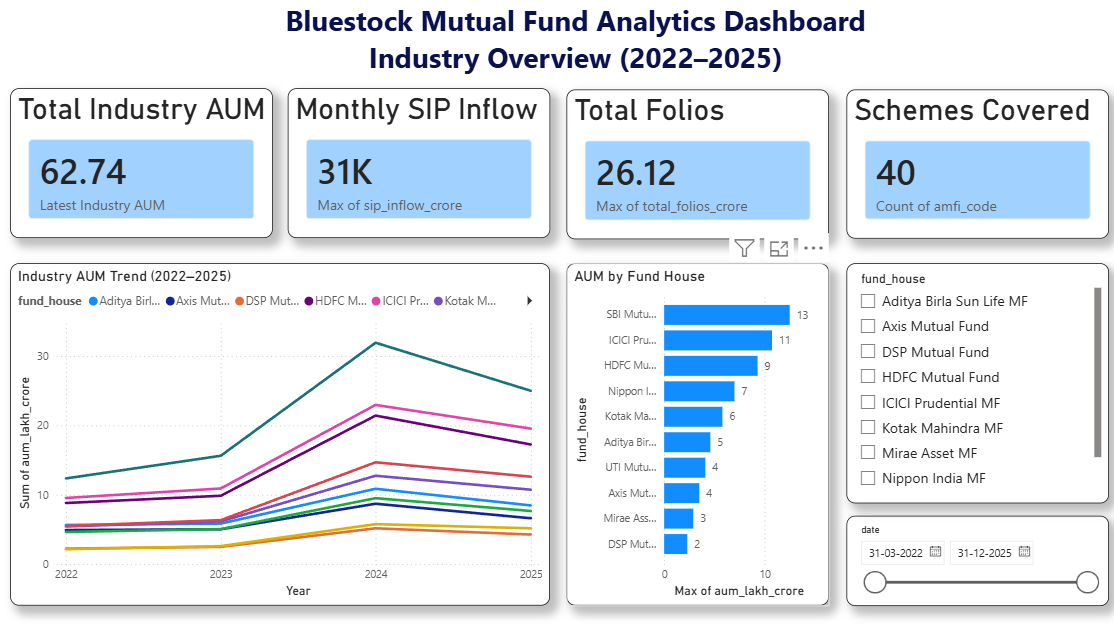

The dashboard page shown, as its layout file describes it:
{"tool":"powerbi","page":{"name":"Industry Overview","canvas":[1280,720],"ordinal":0},"visuals":[{"type":"textbox","box":[295,0,726.7,105],"z":0},{"type":"cardVisual","title":"Monthly SIP Inflow","fields":{"Data":["Max(04_monthly_sip_inflows.sip_inflow_crore)"]},"box":[330,104.3,300,171.4],"z":1000},{"type":"cardVisual","title":"Total Industry AUM","fields":{"Data":["01_fund_master.Total Industry AUM"]},"box":[12.9,104.3,300,171.4],"z":2000},{"type":"cardVisual","title":"Total Folios","fields":{"Data":["Max(06_industry_folio_count.total_folios_crore)"]},"box":[648.6,105.7,300,171.4],"z":3000},{"type":"cardVisual","title":"Schemes Covered","fields":{"Data":["Count(01_fund_master.amfi_code)"]},"box":[968.6,105.7,300,170],"z":4000},{"type":"lineChart","title":"Industry AUM Trend (2022–2025)","fields":{"Category":["03_aum_by_fund_house.date.Variation.Date Hierarchy.Year","03_aum_by_fund_house.date.Variation.Date Hierarchy.Quarter","03_aum_by_fund_house.date.Variation.Date Hierarchy.Month","03_aum_by_fund_house.date.Variation.Date Hierarchy.Day"],"Y":["Sum(03_aum_by_fund_house.aum_lakh_crore)"],"Series":["03_aum_by_fund_house.fund_house"]},"box":[12.9,304.3,617.1,391.4],"z":5000},{"type":"clusteredBarChart","title":"AUM by Fund House","fields":{"Category":["03_aum_by_fund_house.fund_house"],"Y":["Max(03_aum_by_fund_house.aum_lakh_crore)"]},"box":[648.6,304.3,300,391.4],"z":6000},{"type":"slicer","fields":{"Values":["03_aum_by_fund_house.date"]},"box":[968.6,592.9,300,102.9],"z":7000},{"type":"slicer","fields":{"Values":["03_aum_by_fund_house.fund_house"]},"box":[968.6,304.3,300,274.3],"z":8000}]}

Visuals, with their boxes in screenshot pixels (x1, y1, x2, y2), scaled from the page's 1280x720 canvas onto the 1114x625 screenshot:
textbox: (257, 0, 889, 91)
"Monthly SIP Inflow" cardVisual: (287, 91, 548, 239)
"Total Industry AUM" cardVisual: (11, 91, 272, 239)
"Total Folios" cardVisual: (564, 92, 826, 241)
"Schemes Covered" cardVisual: (843, 92, 1104, 239)
"Industry AUM Trend (2022–2025)" lineChart: (11, 264, 548, 604)
"AUM by Fund House" clusteredBarChart: (564, 264, 826, 604)
slicer - 03_aum_by_fund_house.date: (843, 515, 1104, 604)
slicer - 03_aum_by_fund_house.fund_house: (843, 264, 1104, 502)
